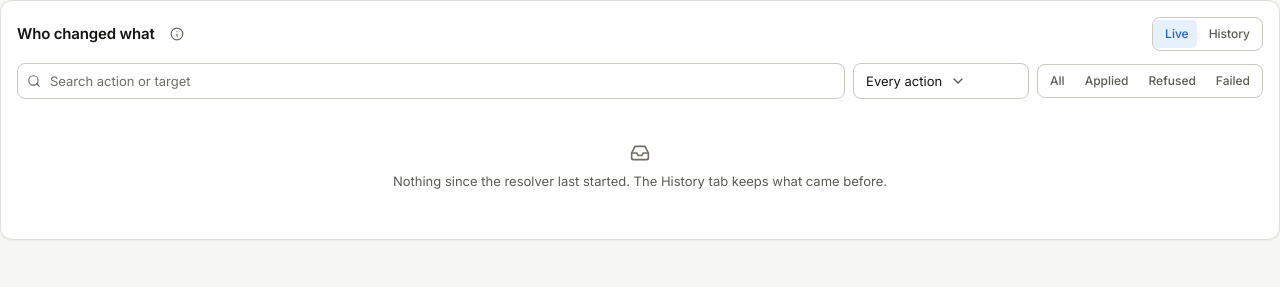
Test case: Audit › says plainly that live entries do not survive a restart
What coordinates should you click on to do the following:
click the radio button labelled "History"
I would click on:
 (1229, 34)
Its box is [1199,20,1260,48].
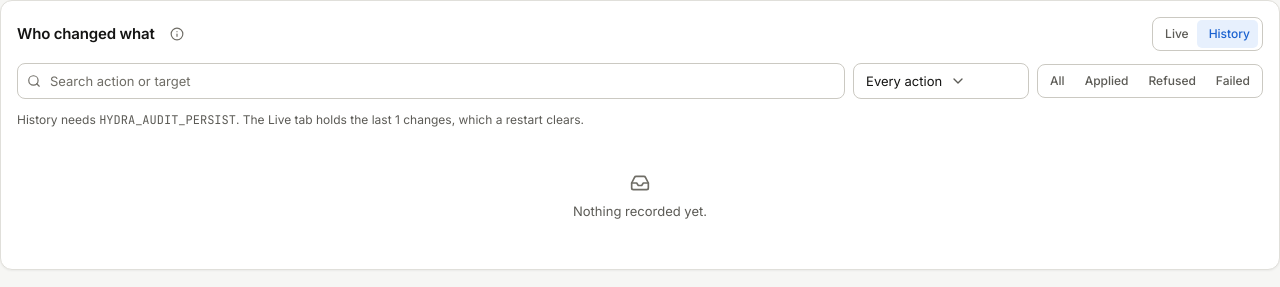
Now the text "HYDRA_AUDIT_PERSIST" is shown, box [99,112,236,128]
